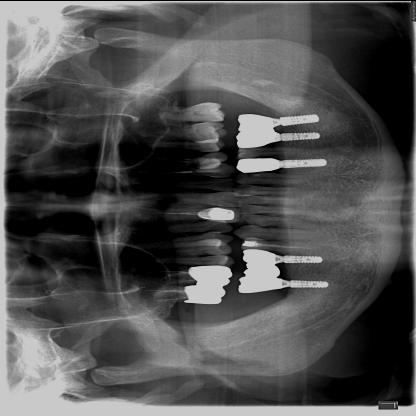ITI: (276, 113, 322, 126), (277, 129, 322, 141)
